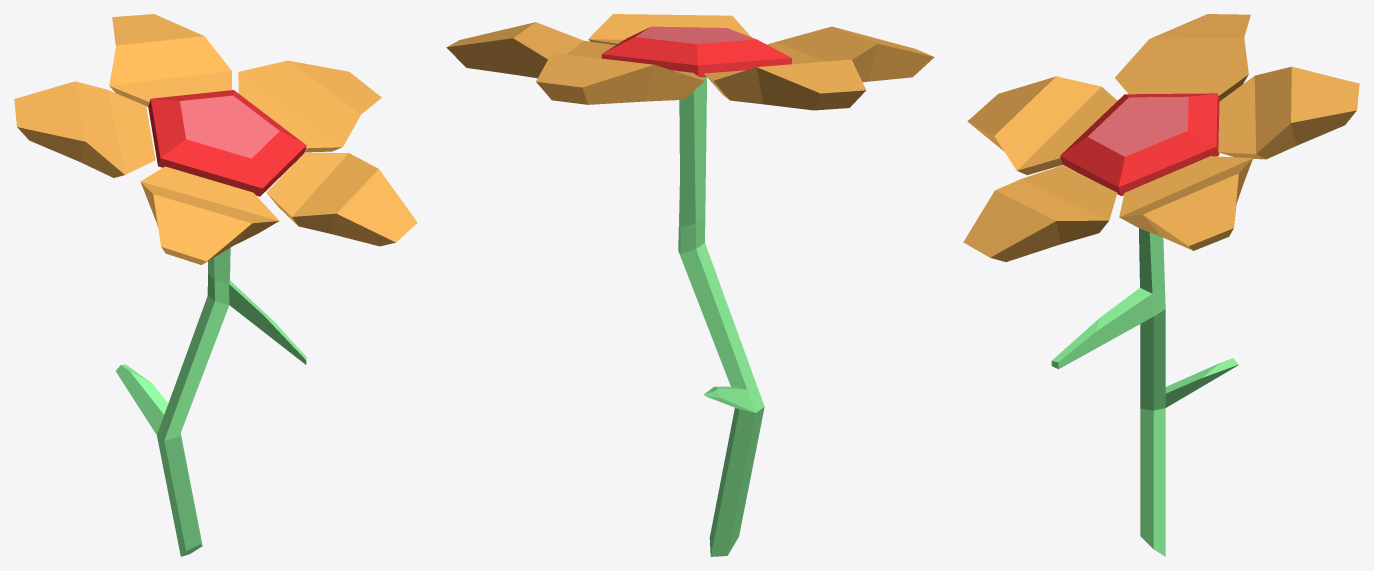
File: Flower 2.fbx
3 views of the same model, side by side, from view 1: azimuth 30°, elevation 25°; view 2: azimuth 150°, elevation 25°; view 3: azimuth 270°, elevation 25° (orthographic). The views are drawn at different scales.
Visible parts, largest first — view 1: Flower 2; view 2: Flower 2; view 3: Flower 2.
Boxes of the visible parts, <box> form: Flower 2: <box>14,14,417,556</box>; Flower 2: <box>446,14,934,556</box>; Flower 2: <box>963,14,1359,556</box>.
Size of the model in its own units: 90.39 by 113 by 84.21.
